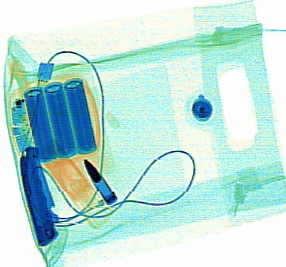knife: (18, 145, 59, 247)
powerbank: (4, 73, 99, 163)
